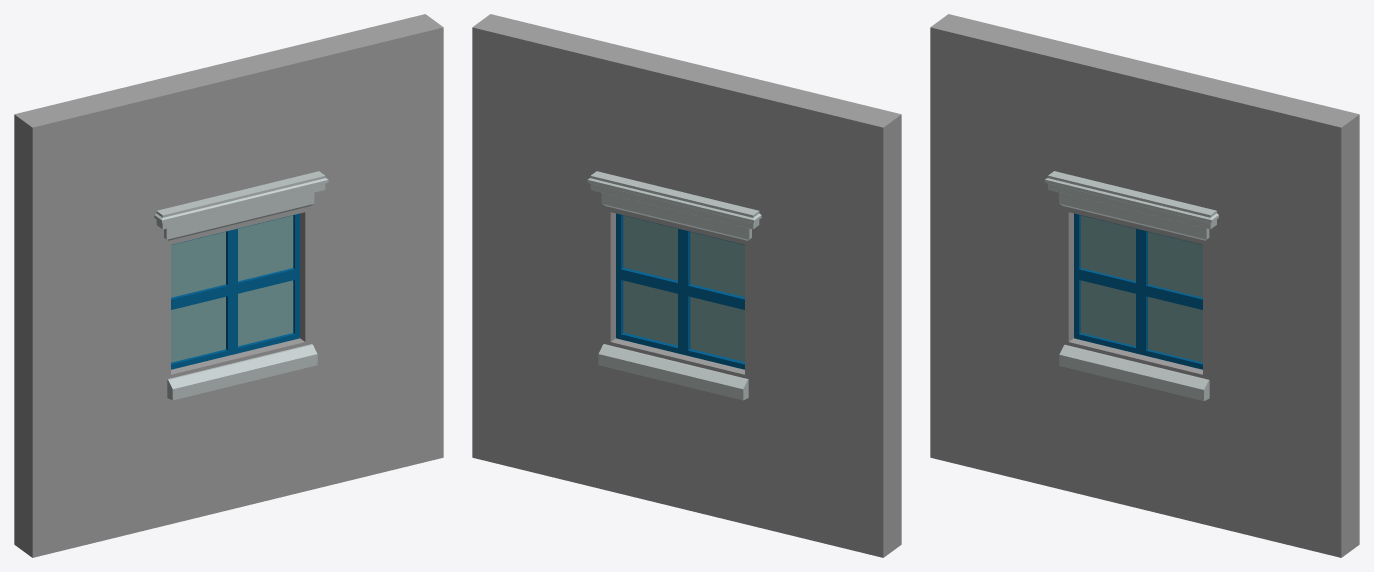
Rendered from NY_Street_Window_02.fbx.
3 views of the same model, side by side, from view 1: azimuth 30°, elevation 25°; view 2: azimuth 150°, elevation 25°; view 3: azimuth 330°, elevation 25° (orthographic).
Visible parts, largest first — view 1: NY_Street_Window_02; view 2: NY_Street_Window_02; view 3: NY_Street_Window_02.
Part boxes in pixels (x1,y1,x2,y2): NY_Street_Window_02: (14,14,443,557); NY_Street_Window_02: (472,14,901,557); NY_Street_Window_02: (930,14,1359,557).
Size of the model in its own units: 400 by 400 by 55.68.
